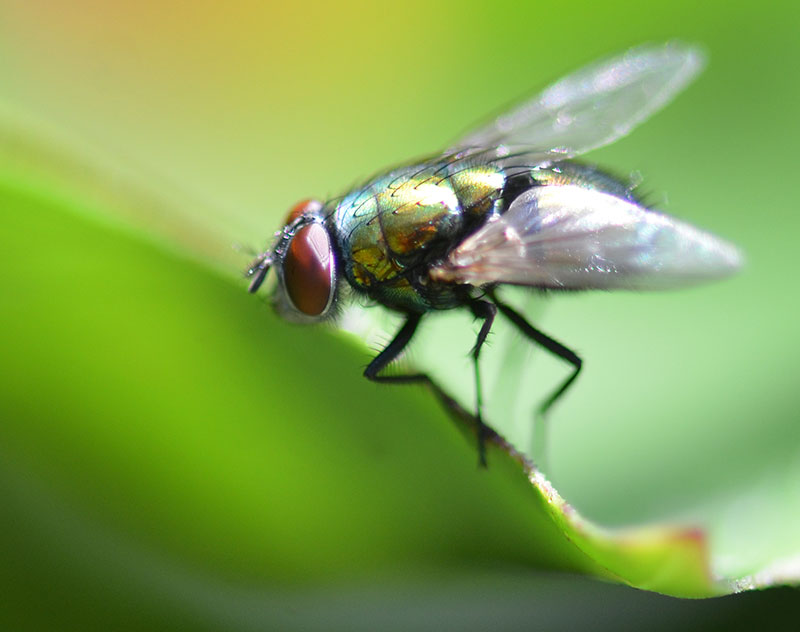green bottles fly: (215, 21, 748, 529)
